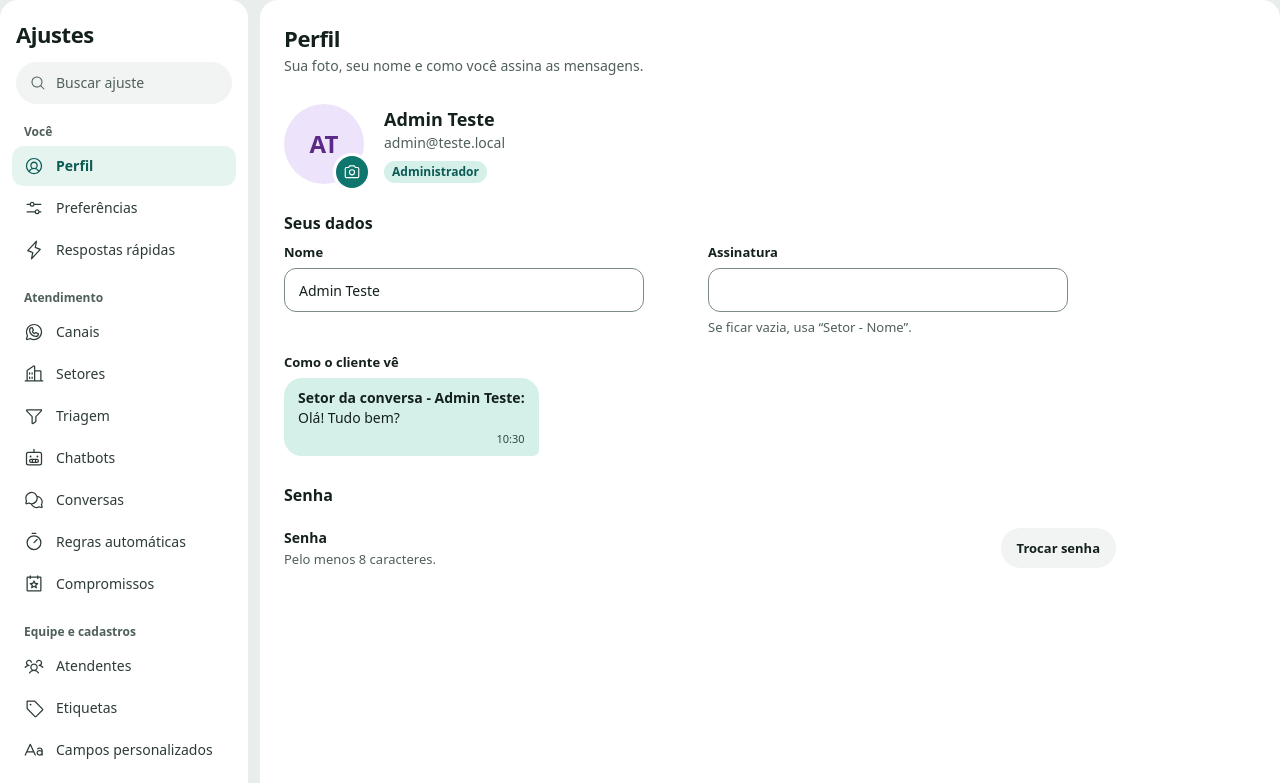
Test: filters the items by label, ignoring accents and case, and hides empty groups
Expected: the heading "Ajustes" is shown, [16,19,94,49]
Type "PREFERENCIAS" into the search field labelled "Buscar ajuste". click: (137, 83)
box: [56,73,218,93]
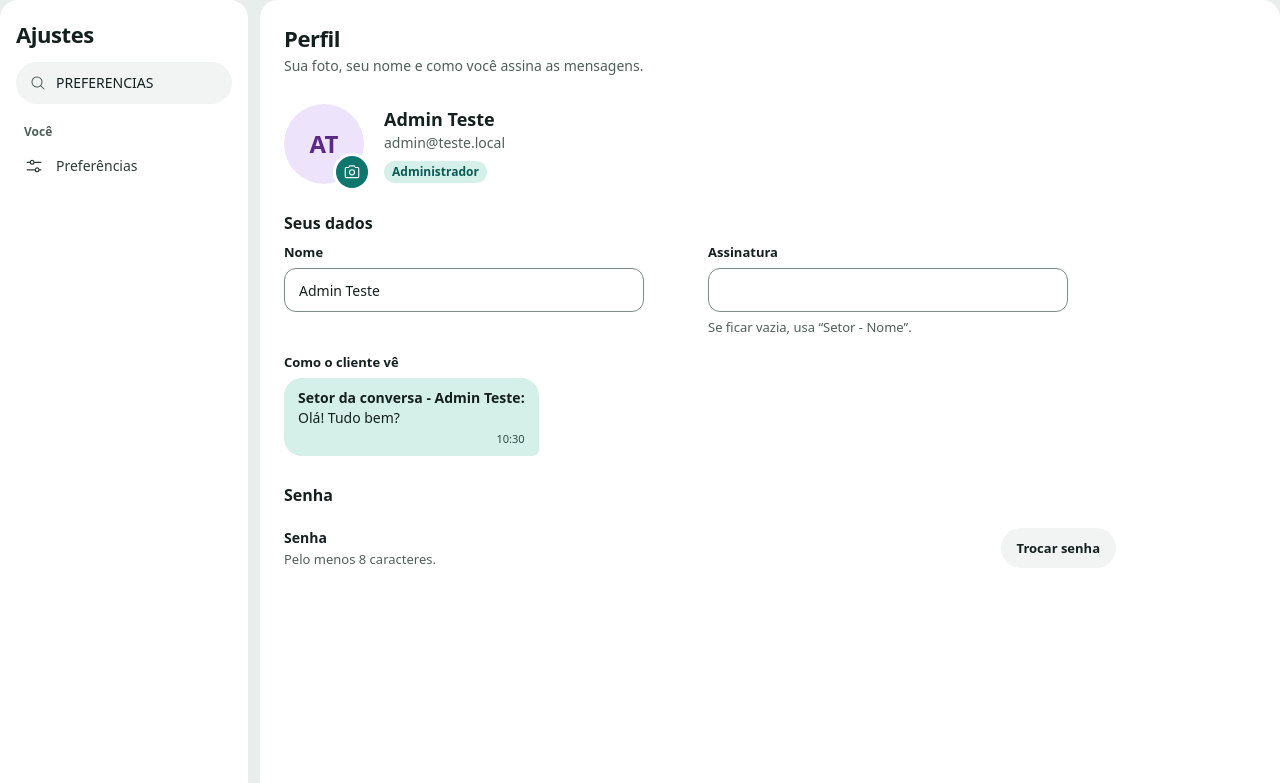
Now the links read "Preferências", in this order, box [24,156,138,176]
Now the heading "Atendimento" is gone
Replace the text in the search field named "Buscar ajuste" with "regras auto". click: (137, 83)
box: [56,73,218,93]
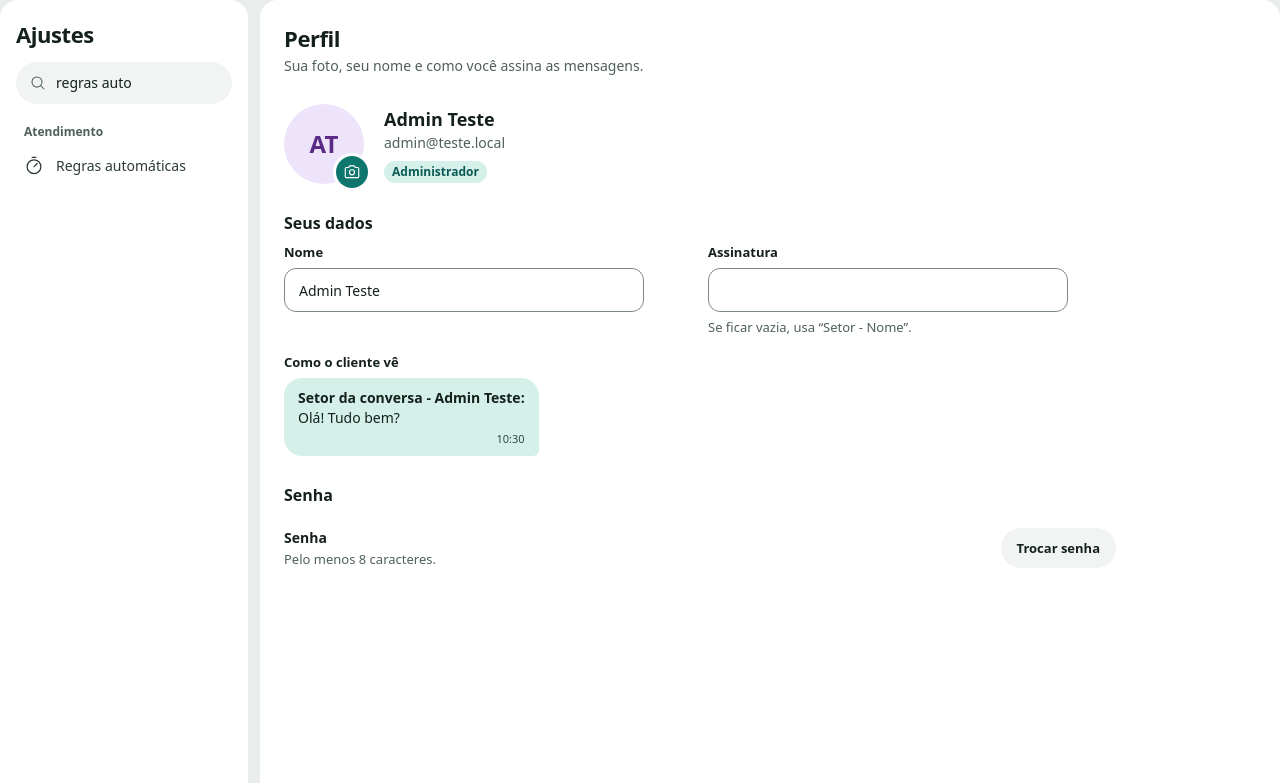
Now the links read "Regras automáticas", in this order, box [24,156,186,176]
Replace the text in the search field named "Buscar ajuste" with "compromissos". click: (137, 83)
box: [56,73,218,93]
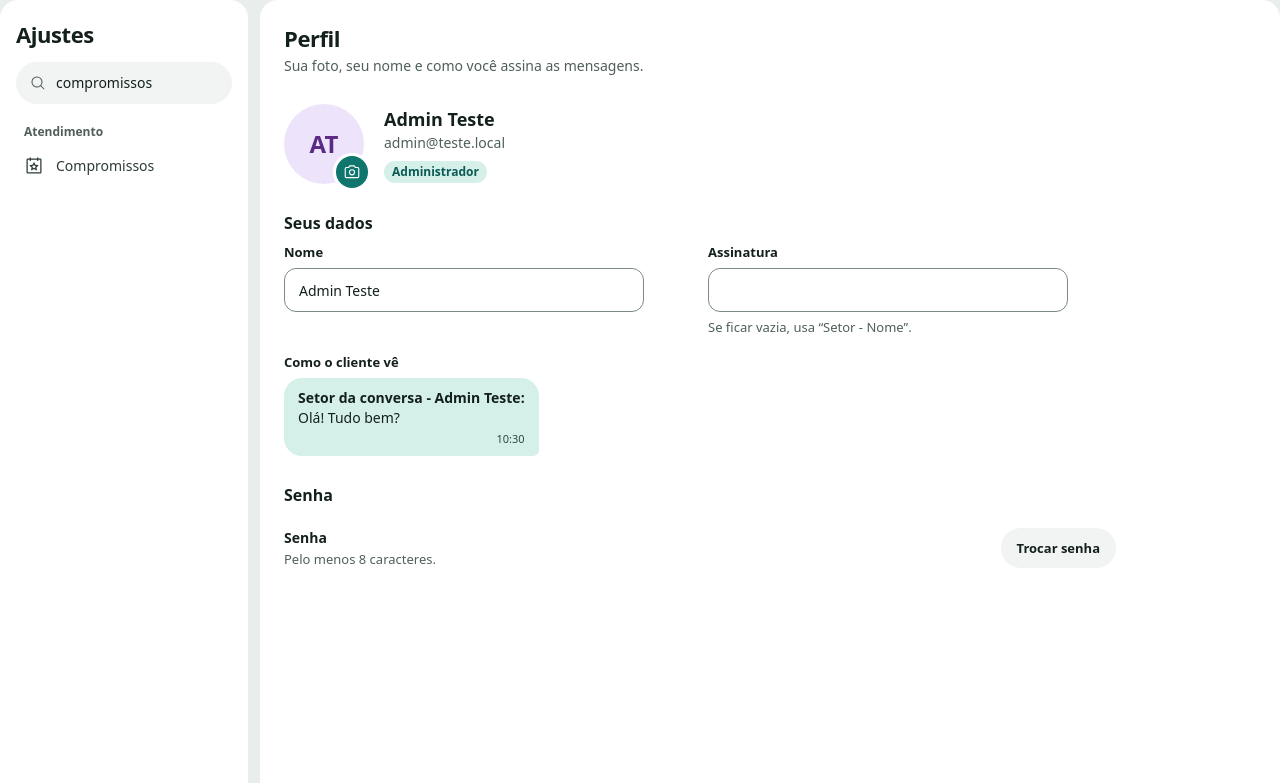
Replace the text in the search field named "Buscar ajuste" with "xyz". click: (137, 83)
box: [56,73,218,93]
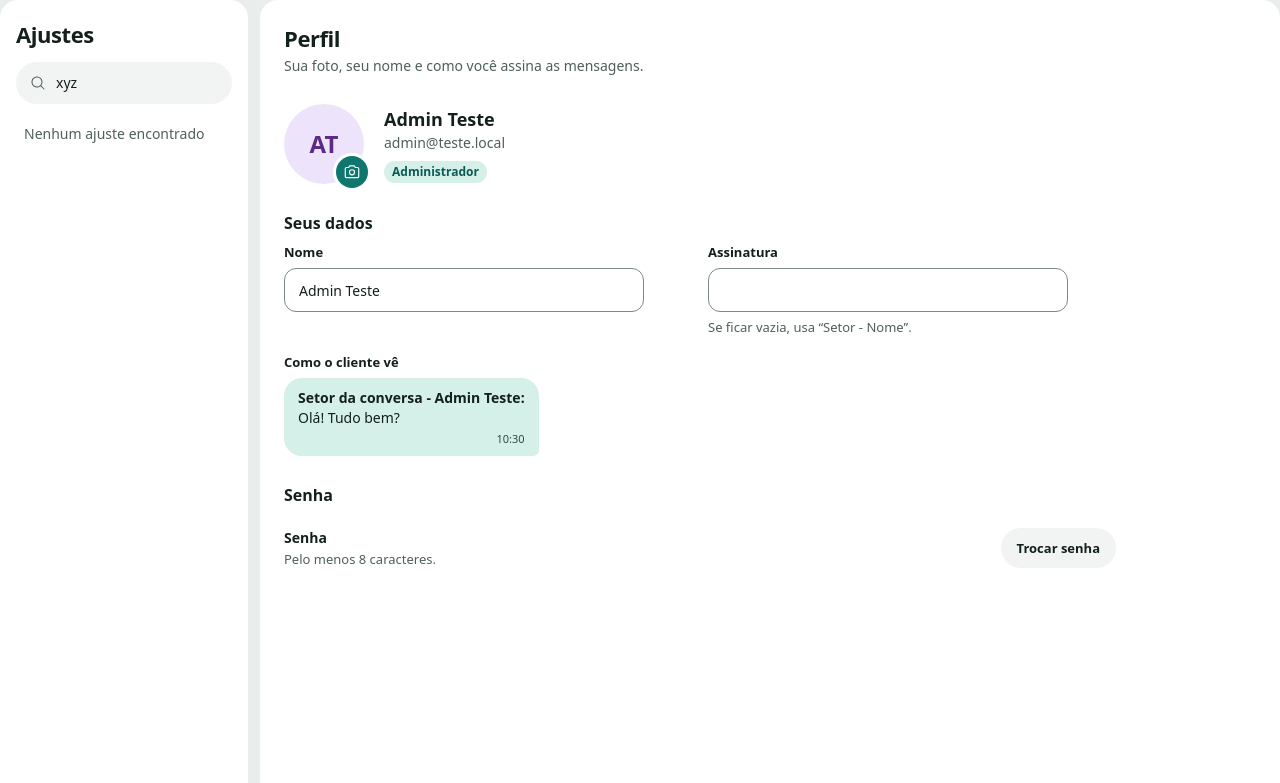
Now no links are shown
Now the text "Nenhum ajuste encontrado" is shown, box [24,124,204,143]
